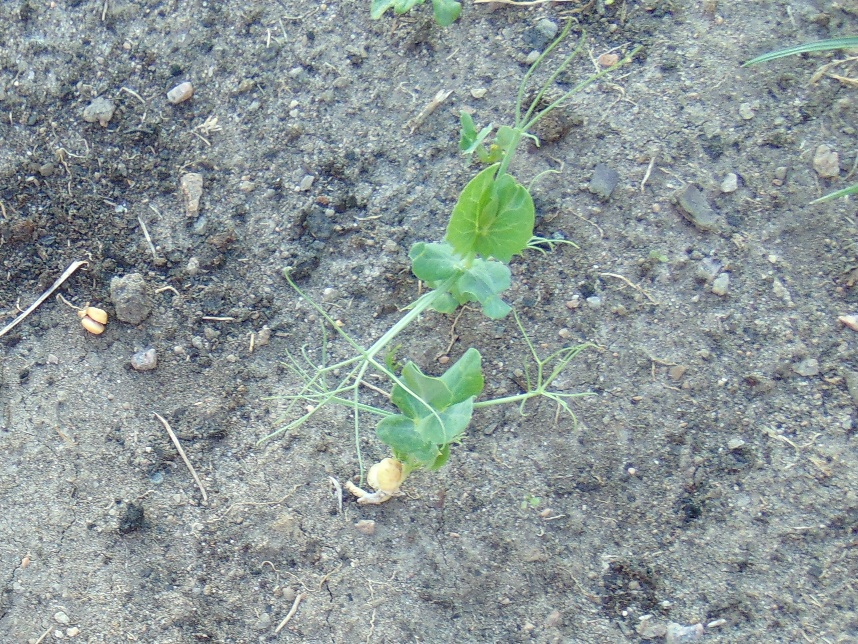crop: (289, 103, 612, 500)
